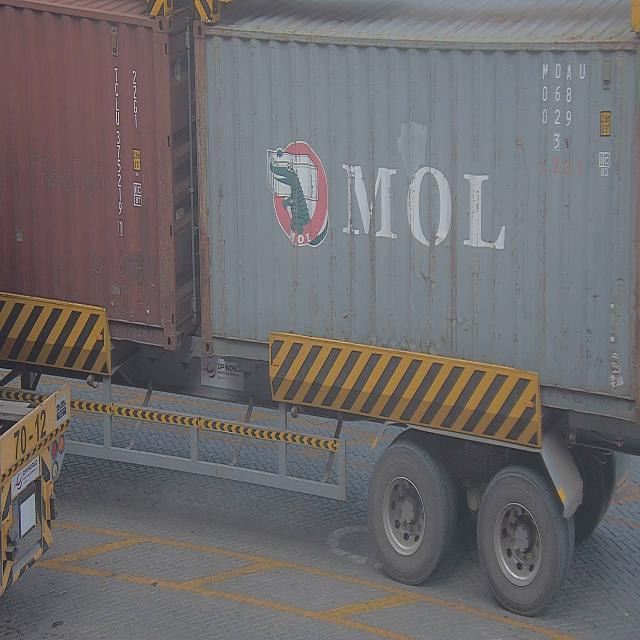Rust: (186, 18, 220, 354)
